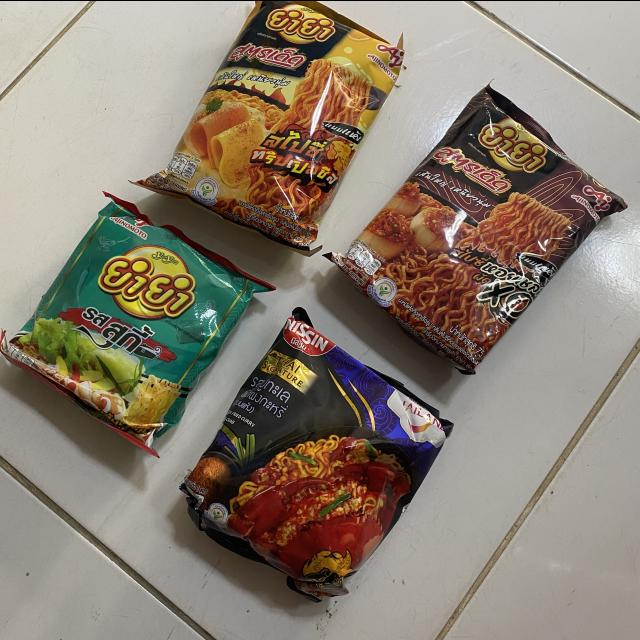plastik: (324, 86, 627, 372), (179, 307, 452, 600), (0, 192, 274, 455), (135, 0, 403, 254)
